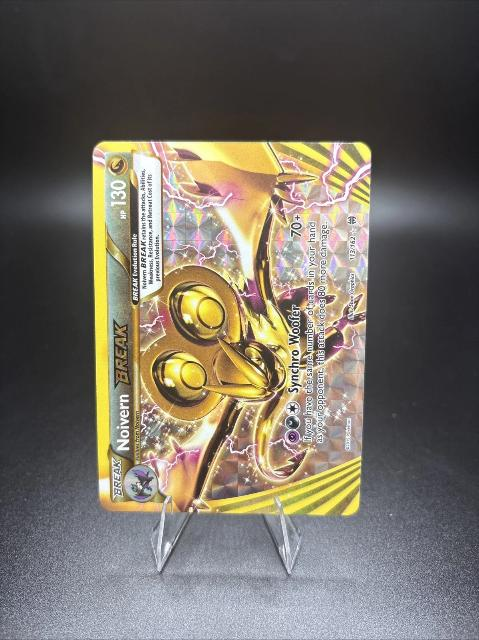Card: (89, 135, 376, 524)
Name: (110, 309, 134, 462)
